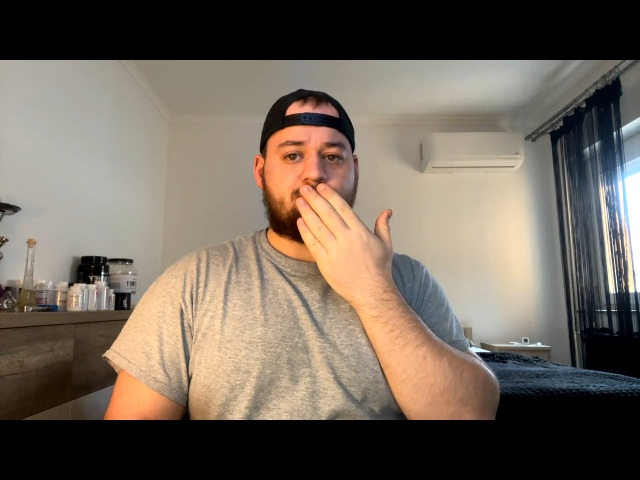ThankYou: (295, 183, 394, 282)
